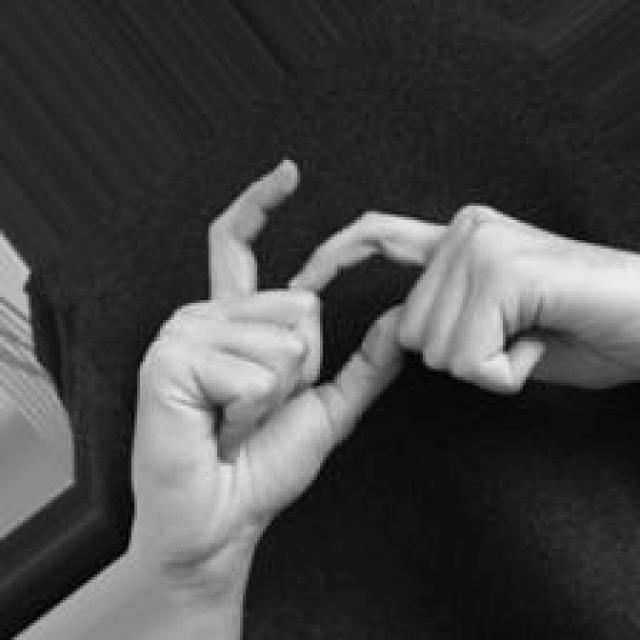G: (125, 157, 640, 640)
